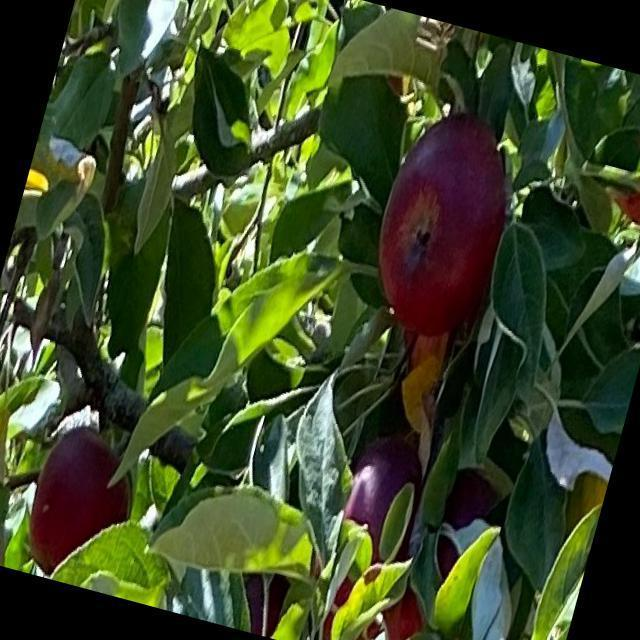Rotten Apple: (358, 106, 529, 340), (18, 420, 148, 590), (330, 427, 434, 570), (424, 461, 504, 589), (317, 557, 439, 639), (236, 564, 294, 638), (605, 116, 639, 231)
